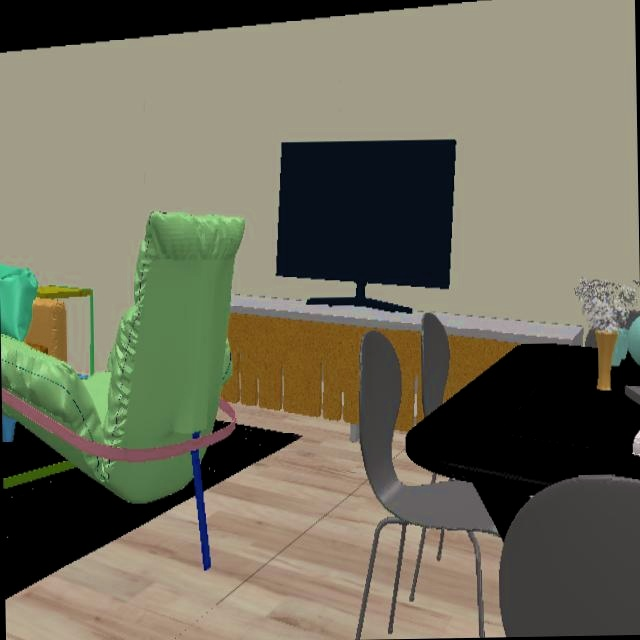chair: (358, 331, 500, 535), (498, 476, 640, 637), (421, 313, 451, 417)
monitor: (277, 141, 456, 300)
sofa: (0, 212, 244, 506)
table: (404, 344, 640, 535)
